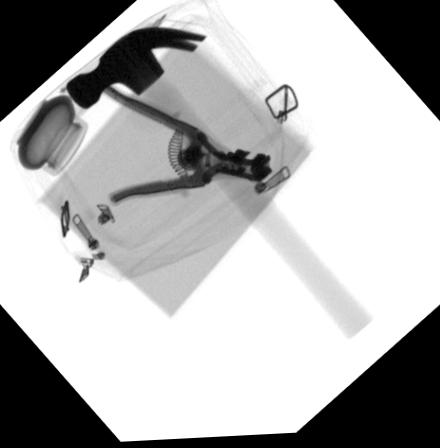Hammer: (65, 29, 374, 344)
Pliers: (95, 79, 273, 208)
